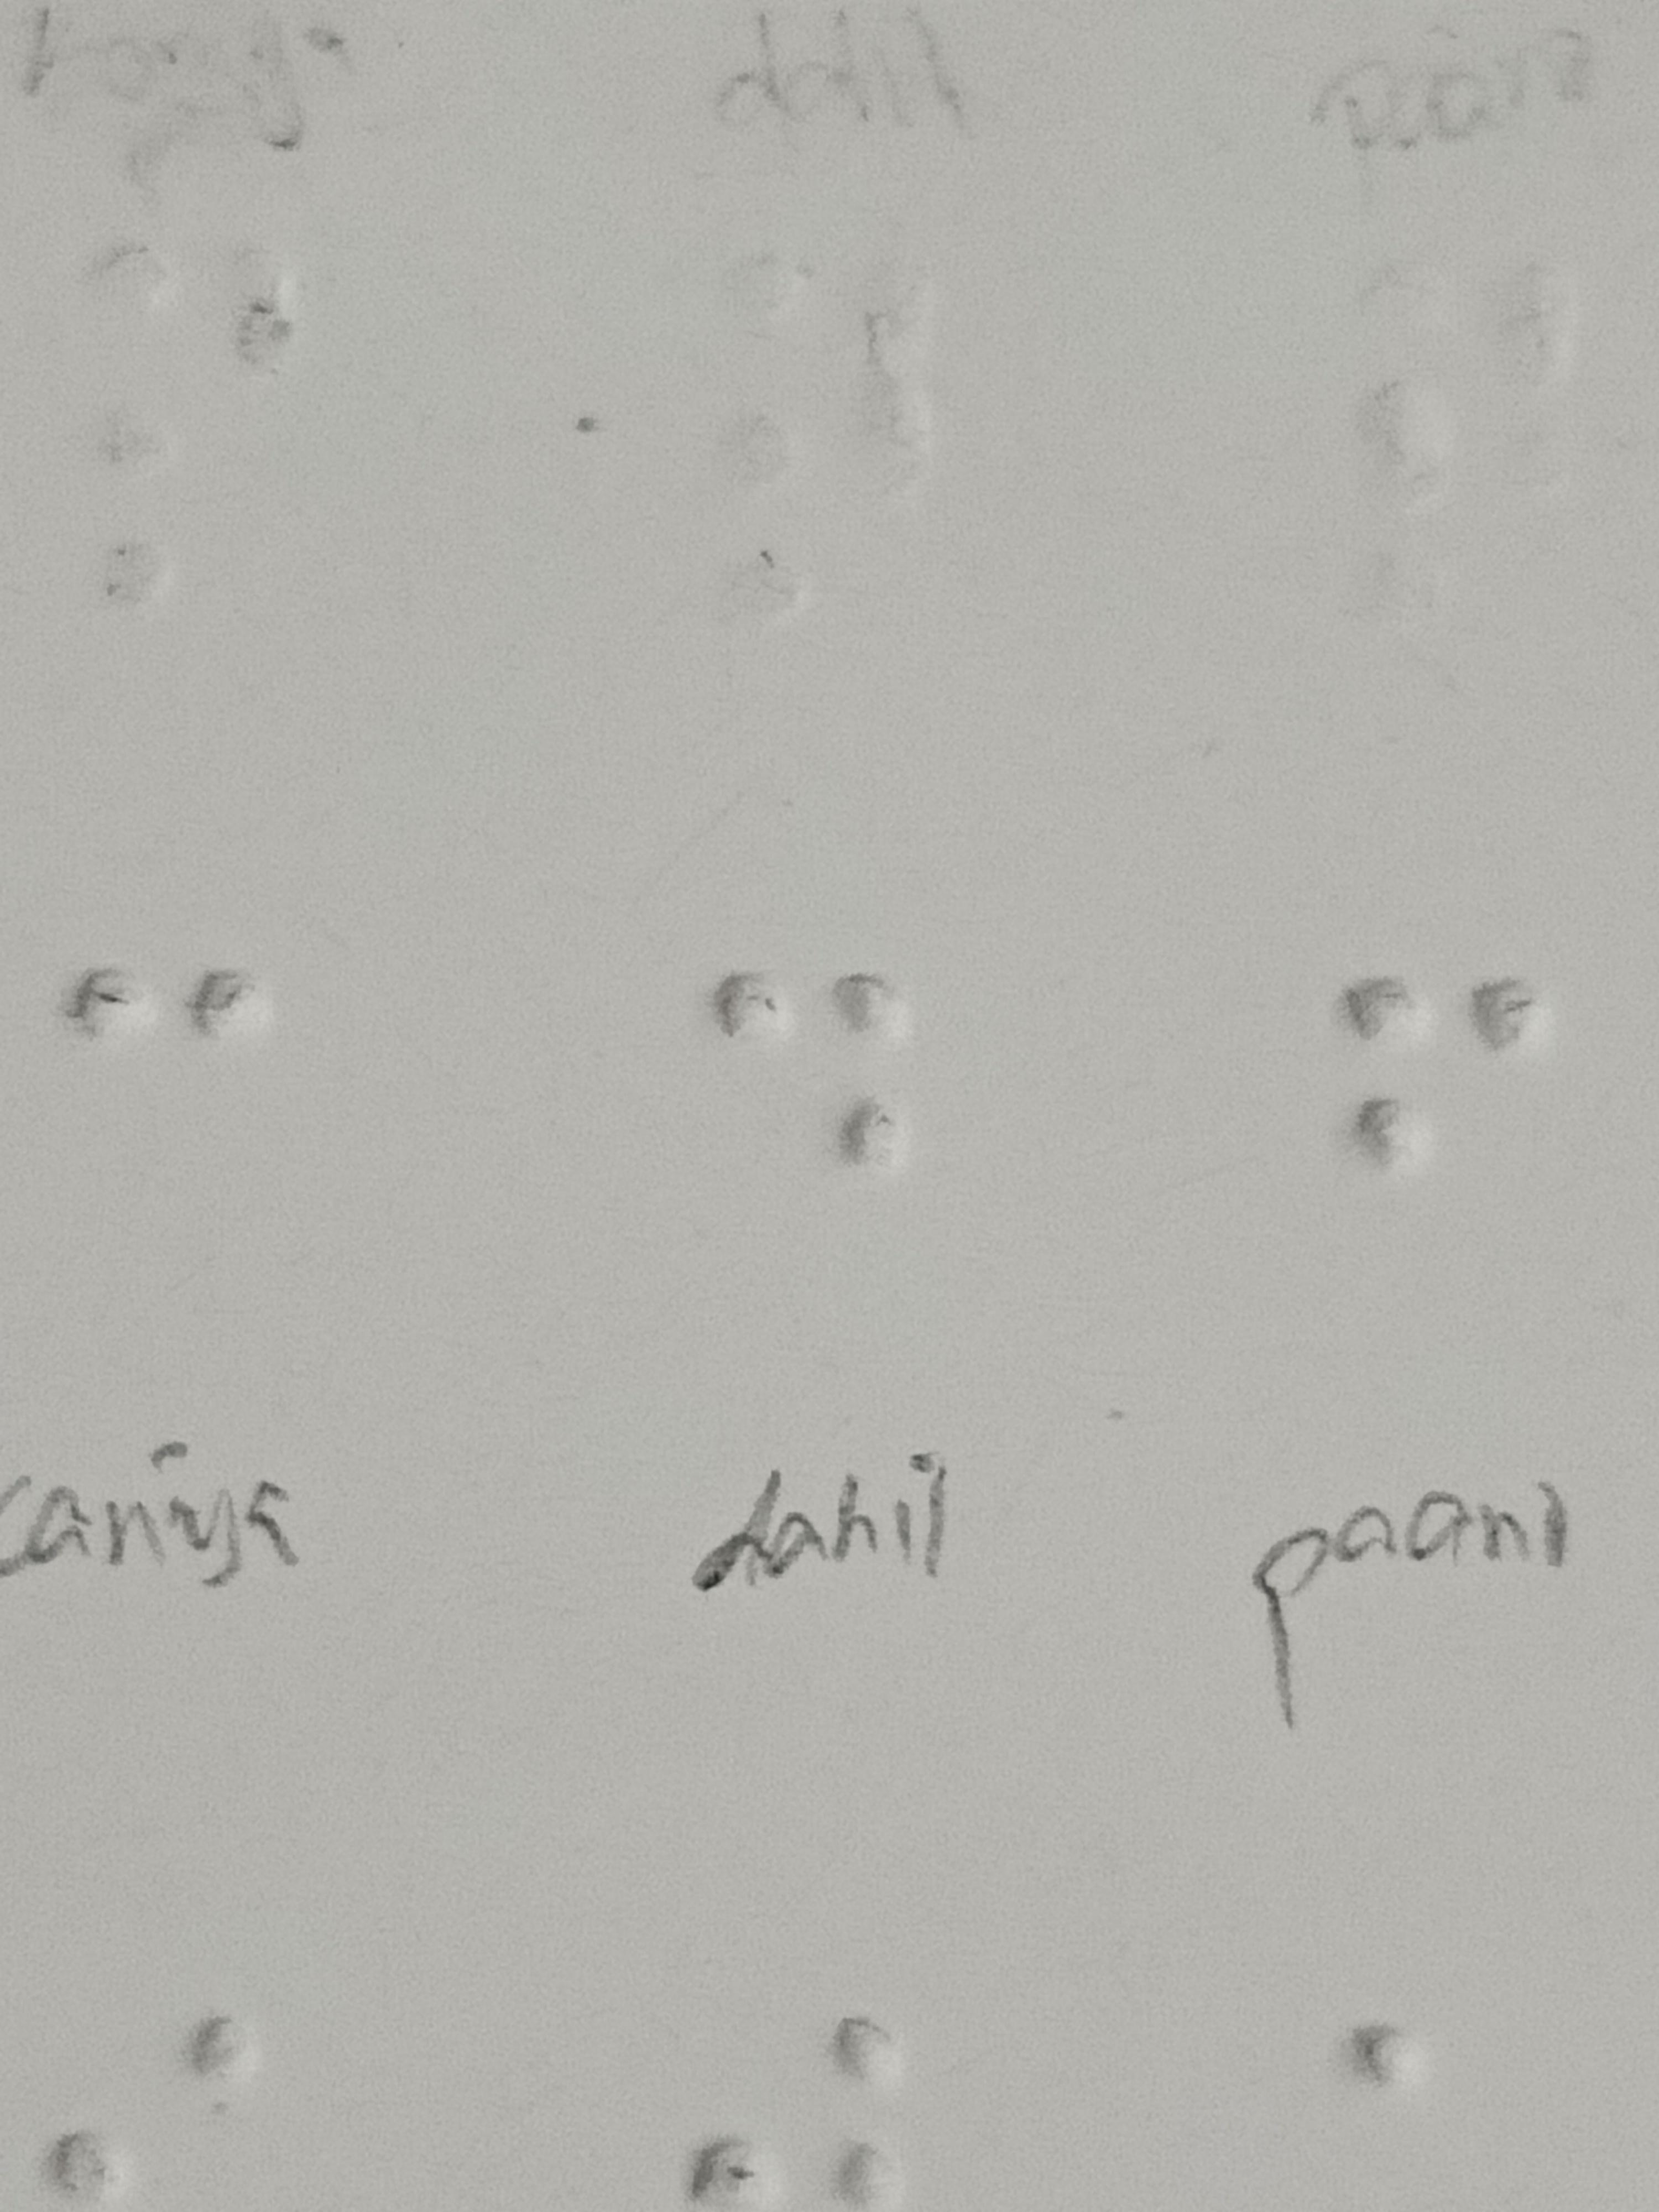one_cell_alphabet_dahil: (706, 960, 925, 1339)
one_cell_alphabet_kaniya: (59, 960, 279, 1339)
one_cell_alphabet_paano: (1330, 963, 1549, 1343)
